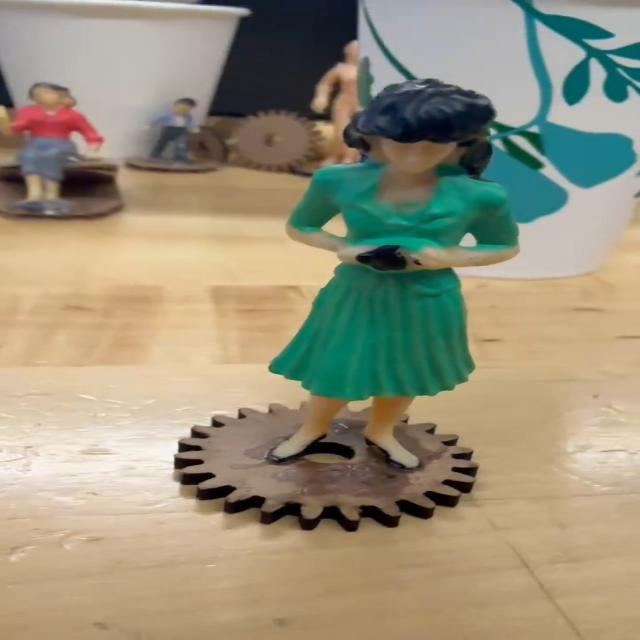Authorized: (242, 67, 542, 486)
